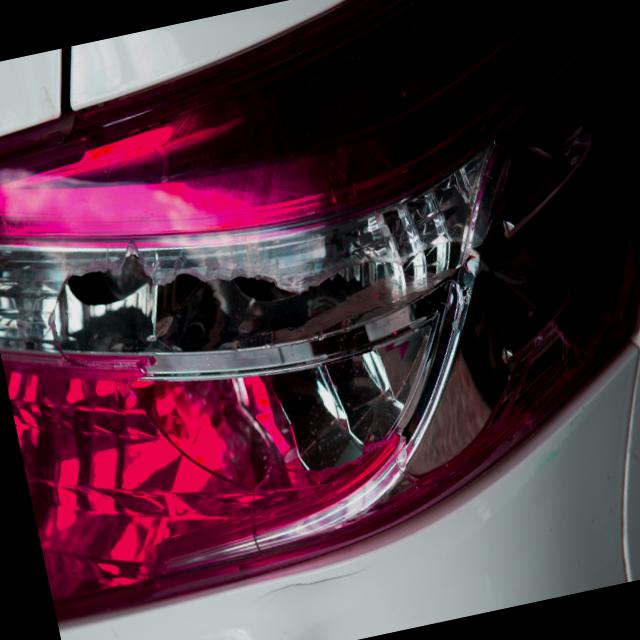Phare abime: (18, 98, 615, 533)
